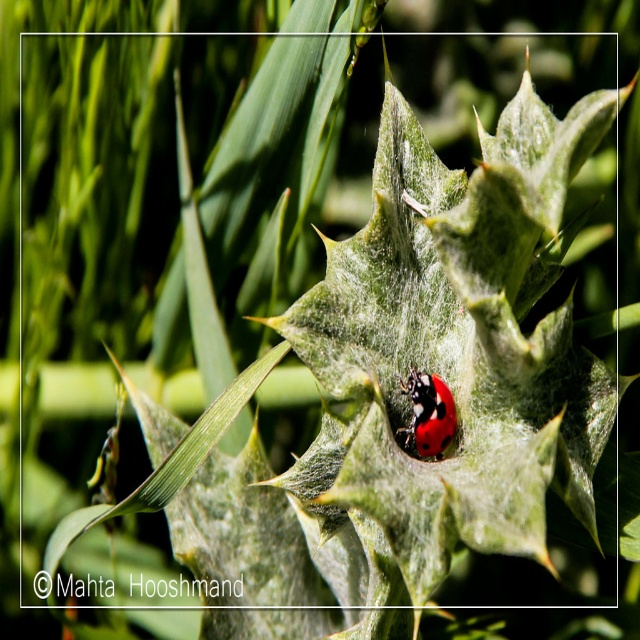Ladybug: (393, 362, 458, 460)
